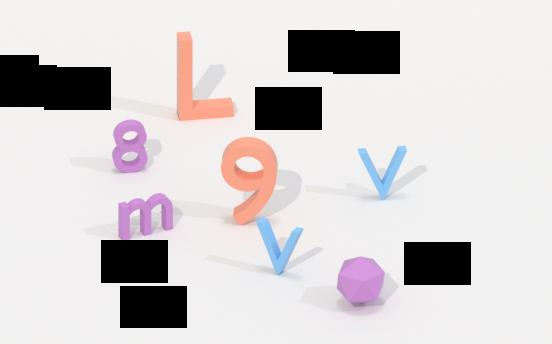8: (109, 117, 151, 177)
9: (219, 134, 280, 228)
dagiac: (334, 251, 385, 306)
l: (172, 28, 237, 124)
m: (116, 190, 174, 241)
v: (254, 213, 304, 278), (356, 142, 410, 202)
